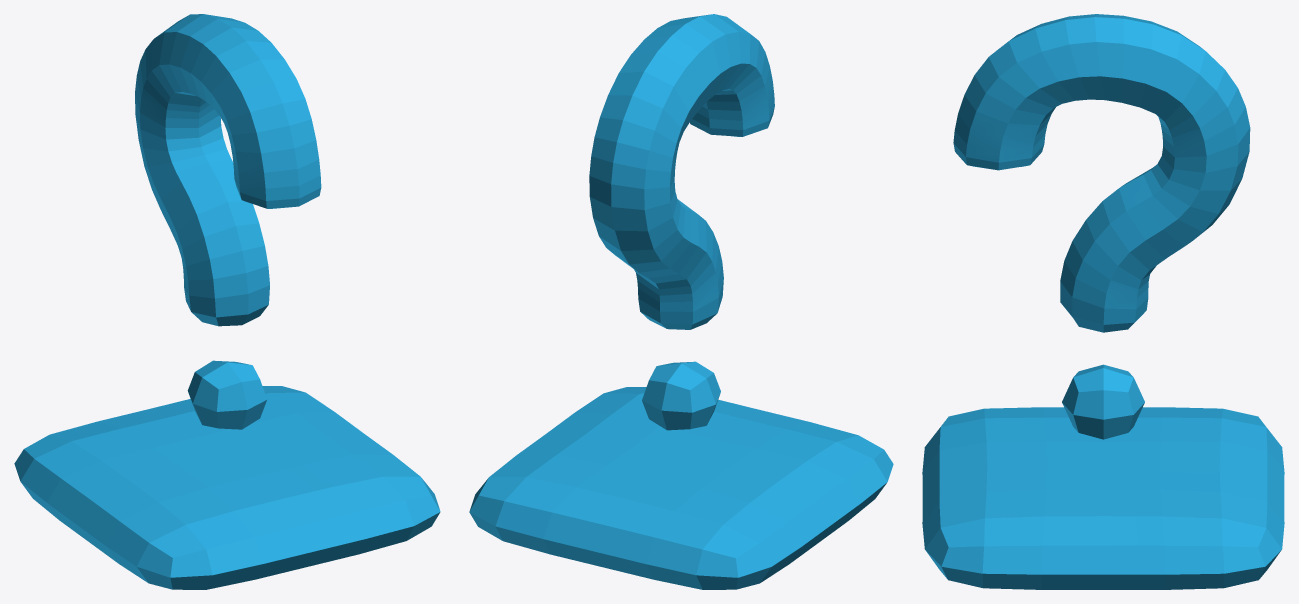
File: point.fbx
The picture shows the model from 3 angles, left to right: view 1: azimuth 30°, elevation 25°; view 2: azimuth 150°, elevation 25°; view 3: azimuth 270°, elevation 25°; orthographic projection. The views are drawn at different scales.
Visible parts, largest first — view 1: Point; view 2: Point; view 3: Point.
Boxes of the visible parts, x1,y1,x2,y2 form: Point: [14, 14, 440, 589]; Point: [469, 14, 893, 589]; Point: [922, 14, 1284, 589].
Size of the model in its own units: 53.73 by 84.13 by 53.73.
